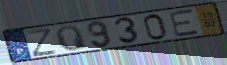0: (142, 13, 169, 41)
3: (113, 16, 141, 45)
9: (86, 20, 114, 49)
E: (168, 8, 202, 38)
Q: (55, 25, 90, 52)
Z: (24, 26, 59, 58)
